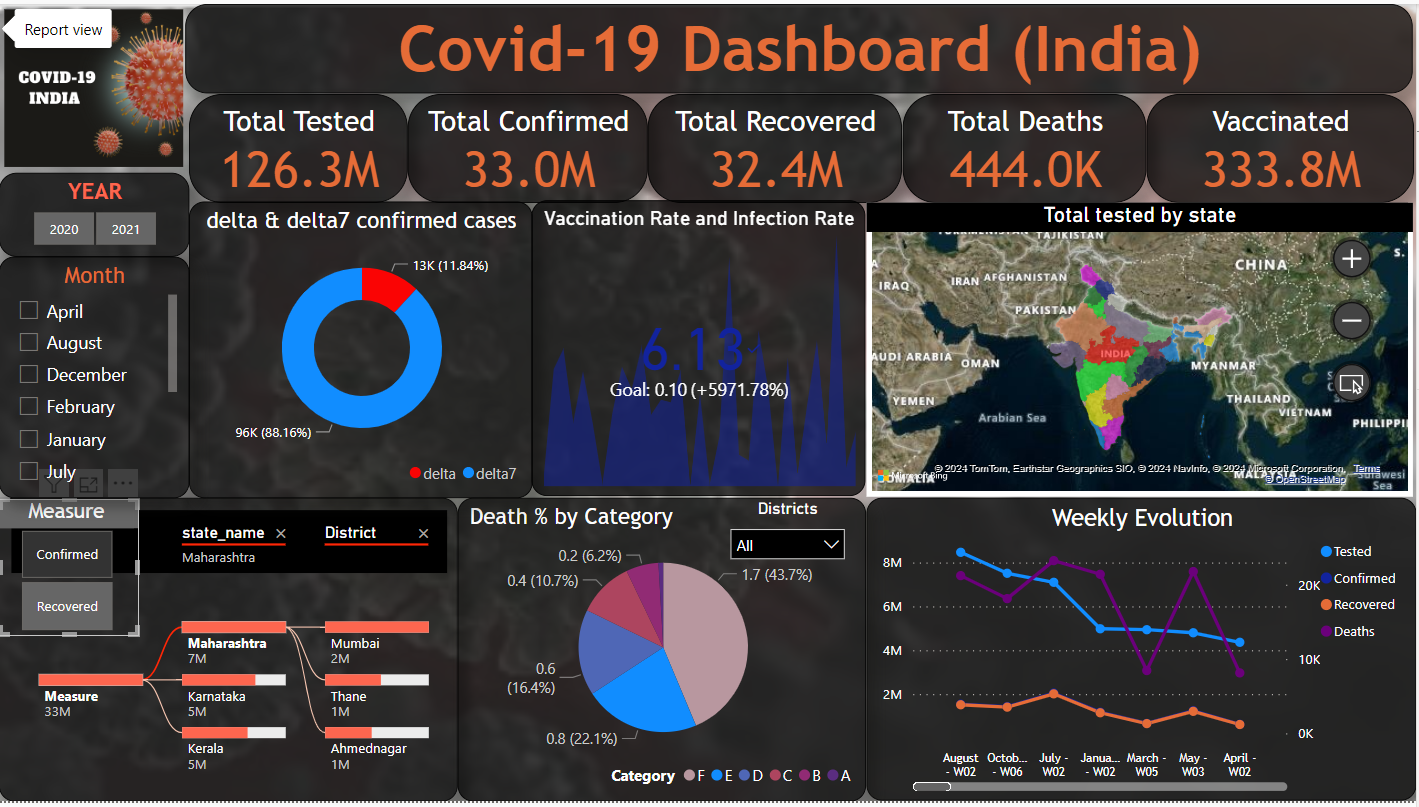

This screenshot's page, from the dashboard's own definition file:
{"tool":"powerbi","page":{"name":"Page 1","canvas":[1280,720],"ordinal":0},"visuals":[{"type":"image","box":[0,0,171.6,152.2],"z":0},{"type":"textbox","title":"Covid-19 Dashboard (India)","box":[168.4,0,1109.2,81],"z":1000},{"type":"slicer","title":"YEAR","fields":{"Values":["Districts.Year"]},"box":[0,152.2,171.6,76.1],"z":2000},{"type":"decompositionTreeVisual","fields":{"ExplainBy":["Districts.state_name","Districts.District"],"Analyze":["Districts.SelectedMeasureValue"]},"box":[0,446.1,414,274.1],"z":3000},{"type":"slicer","title":"Measure","fields":{"Values":["ColumnNamesTable.ColumnName"]},"box":[0,446.7,126.7,125],"z":5000},{"type":"card","title":"Total Tested","fields":{"Values":["Sum(Districts.Tested)"]},"box":[171.6,81,197.5,98.8],"z":6000},{"type":"card","title":"Total Confirmed","fields":{"Values":["Sum(Districts.Confirmed)"]},"box":[369.2,81,217,98.8],"z":7000},{"type":"card","title":"Total Recovered","fields":{"Values":["Sum(Districts.Recovered)"]},"box":[586.2,81,229.9,98.8],"z":8000},{"type":"card","title":"Total Deaths","fields":{"Values":["Sum(Districts.Deaths)"]},"box":[816.1,81,220.2,98.8],"z":9000},{"type":"card","title":"Vaccinated","fields":{"Values":["Sum(Districts.Vaccinated2)"]},"box":[1036.3,81,241.3,98.8],"z":10000},{"type":"lineChart","title":"Weekly Evolution","fields":{"Y":["Sum(Districts.Tested)","Sum(Districts.Confirmed)","Sum(Districts.Recovered)"],"Category":["Districts.MonthWeek"],"Y2":["Districts.CumulativeDeaths"]},"box":[782.9,446.1,497.1,274.1],"z":11000},{"type":"pieChart","title":"Death % by Category","fields":{"Category":["Districts.Category"],"Y":["Districts.CategoryDeathPercentage"]},"box":[414,446.1,368.8,274.1],"z":12000},{"type":"donutChart","title":"delta & delta7 confirmed cases","fields":{"Y":["Sum(States only.state_delta_confirmed)","Sum(States only.state_delta7_confirmed)"]},"box":[171.7,178.3,310,268.3],"z":13000},{"type":"slicer","title":"Month","fields":{"Values":["Districts.Month"]},"box":[0,228.3,171.6,218.6],"z":14000},{"type":"filledMap","title":"Total tested by state","fields":{"Category":["Districts.state_name"]},"box":[783.1,179.3,493.8,265.7],"z":15000},{"type":"slicer","title":"Districts","fields":{"Values":["Districts.District"]},"box":[650.2,447.6,123.9,67.1],"z":16000},{"type":"kpi","title":"Vaccination Rate and Infection Rate","fields":{"Indicator":["Districts.VaccinationRate"],"Goal":["Districts.InfectionRate"],"TrendLine":["Districts.State"]},"box":[481.2,177.7,301.9,267.3],"z":17000}]}

Visuals, with their boxes in screenshot pixels (x1, y1, x2, y2):
image: BBox(7, 0, 195, 166)
"Covid-19 Dashboard (India)" textbox: BBox(191, 0, 1404, 89)
"YEAR" slicer: BBox(7, 166, 195, 250)
decompositionTreeVisual - Districts.state_name x Districts.District: BBox(7, 488, 460, 787)
"Measure" slicer: BBox(7, 488, 146, 625)
"Total Tested" card: BBox(195, 89, 411, 197)
"Total Confirmed" card: BBox(411, 89, 648, 197)
"Total Recovered" card: BBox(648, 89, 900, 197)
"Total Deaths" card: BBox(900, 89, 1140, 197)
"Vaccinated" card: BBox(1140, 89, 1404, 197)
"Weekly Evolution" lineChart: BBox(863, 488, 1407, 787)
"Death % by Category" pieChart: BBox(460, 488, 863, 787)
"delta & delta7 confirmed cases" donutChart: BBox(195, 195, 534, 488)
"Month" slicer: BBox(7, 250, 195, 489)
"Total tested by state" filledMap: BBox(864, 196, 1403, 487)
"Districts" slicer: BBox(718, 489, 854, 563)
"Vaccination Rate and Infection Rate" kpi: BBox(533, 194, 864, 487)
